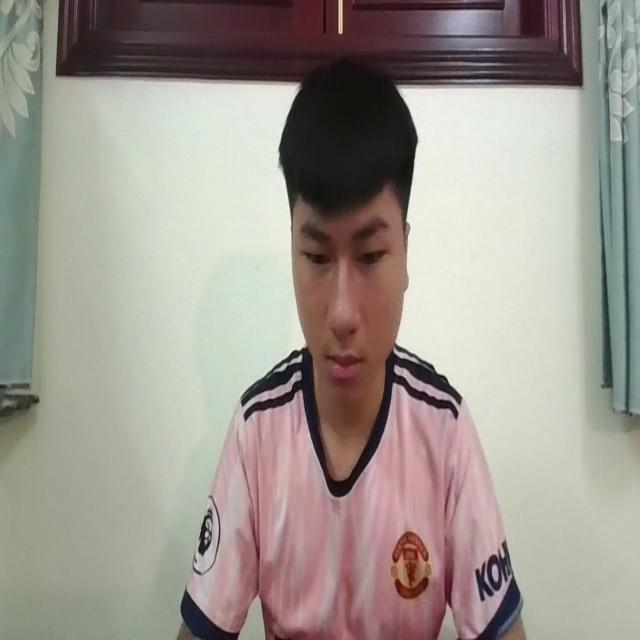student: (175, 50, 526, 640)
